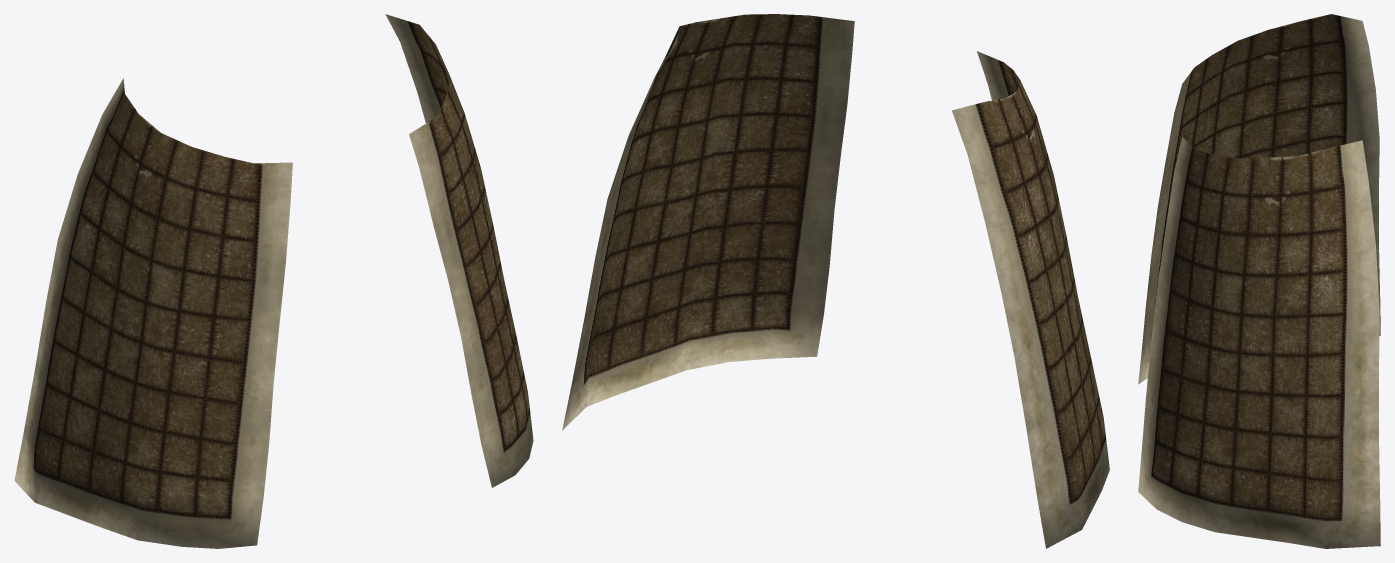
File: clo_dunland_caerdh_chainmail_heavy_d.fbx
3 views of the same model, side by side, from view 1: azimuth 30°, elevation 25°; view 2: azimuth 150°, elevation 25°; view 3: azimuth 270°, elevation 25° (orthographic). The views are drawn at different scales.
Visible parts, largest first — view 1: clo_dunland_caerdh_chainmail_heavy_d; view 2: clo_dunland_caerdh_chainmail_heavy_d; view 3: clo_dunland_caerdh_chainmail_heavy_d.
Boxes of the visible parts, x1,y1,x2,y2 form: clo_dunland_caerdh_chainmail_heavy_d: (14,14,533,548); clo_dunland_caerdh_chainmail_heavy_d: (562,14,1109,548); clo_dunland_caerdh_chainmail_heavy_d: (1138,14,1380,548).
Size of the model in its own units: 0.6066 by 0.2882 by 0.4726.
1 material, 1 textured.
